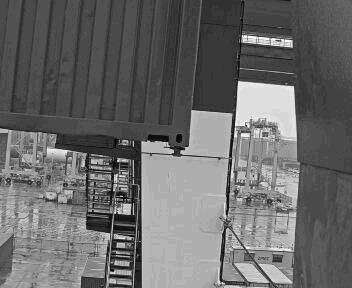twist_lock_1: (166, 142, 190, 162)
